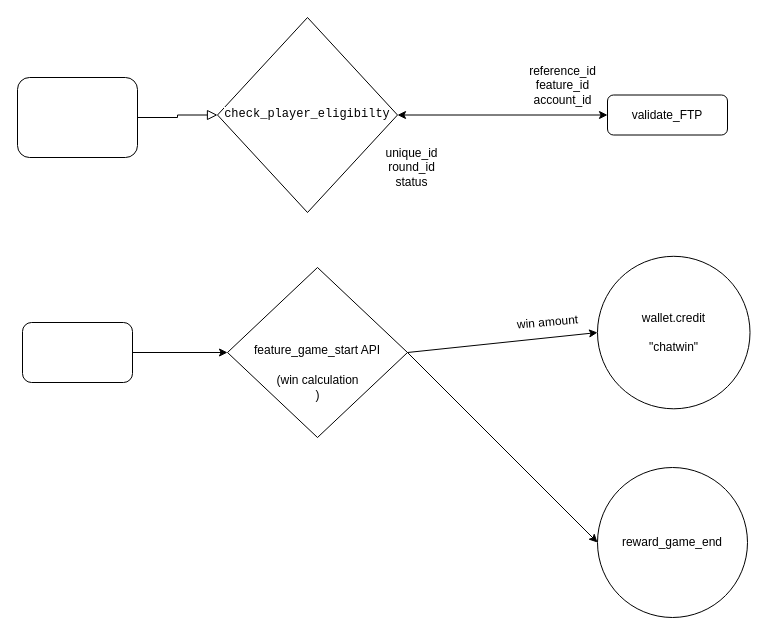
Some shapes in this 768 by 635 pixel diagram are drawn without their labels. Each missing label, with the centre of its shape:
"click on feature icon" goes at point 77,117.
"spin the wheel" goes at point 77,352.
